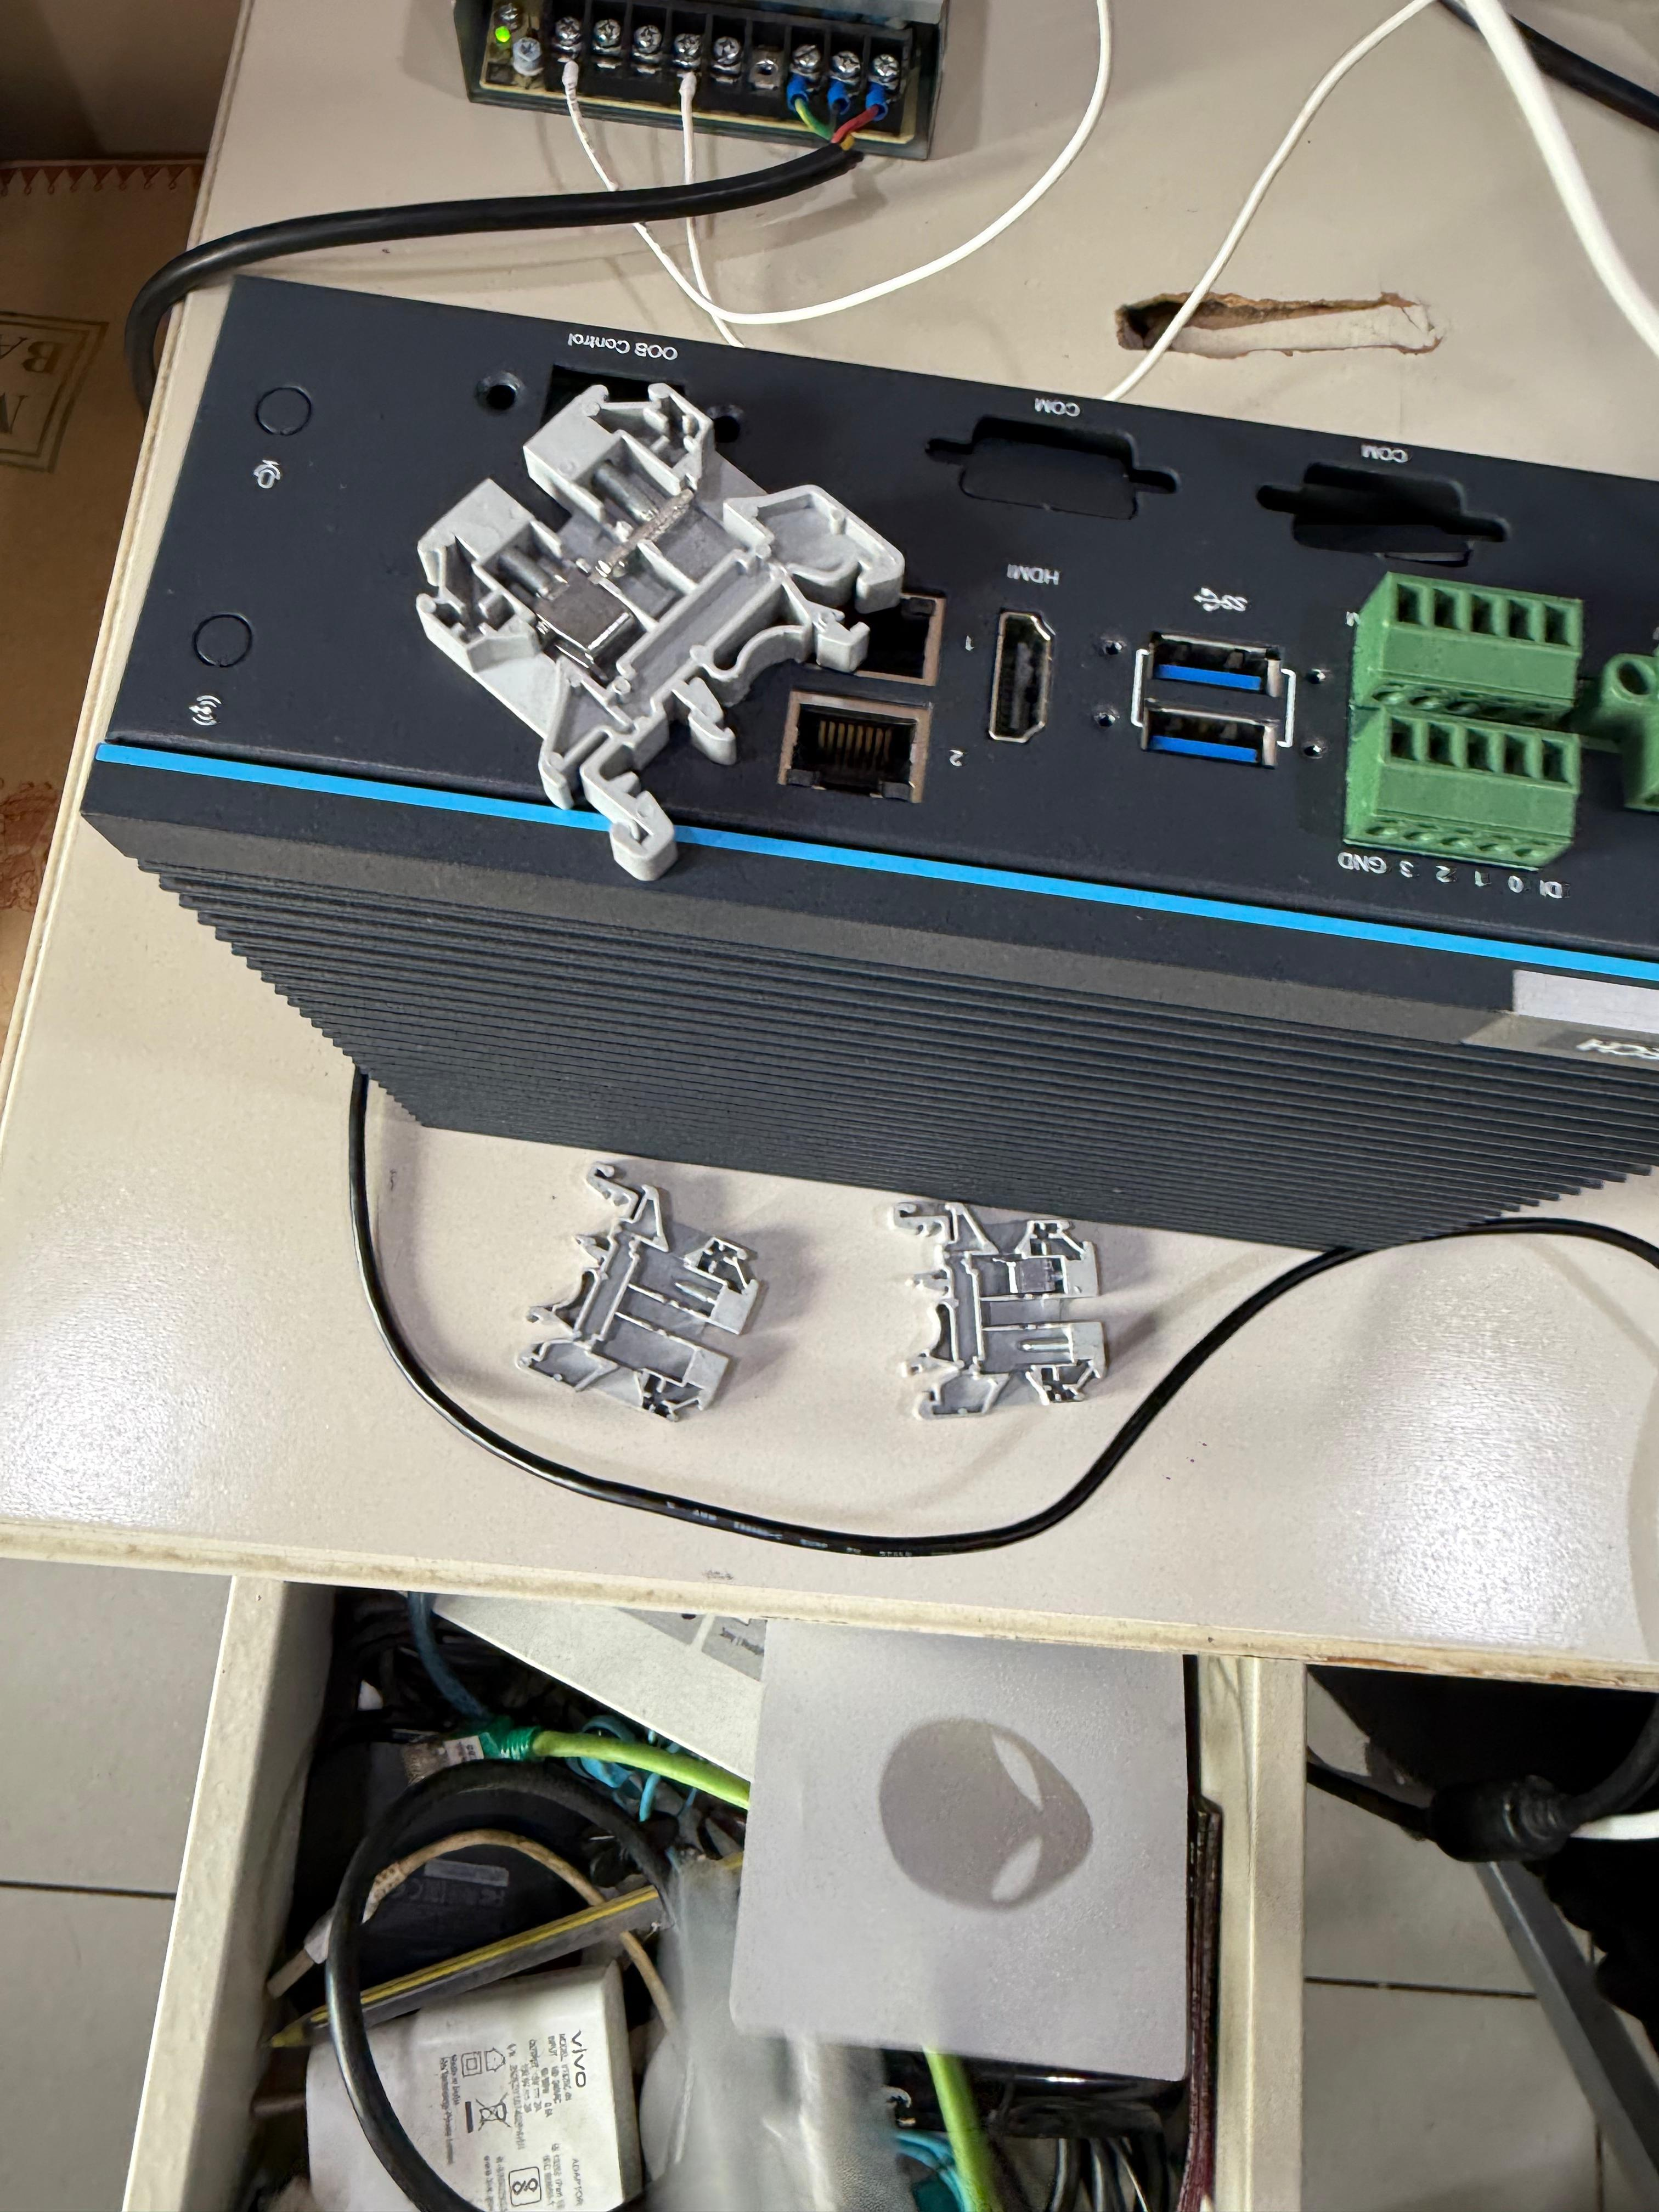Reject: (401, 376, 929, 892), (523, 1157, 767, 1426), (884, 1191, 1108, 1420)
